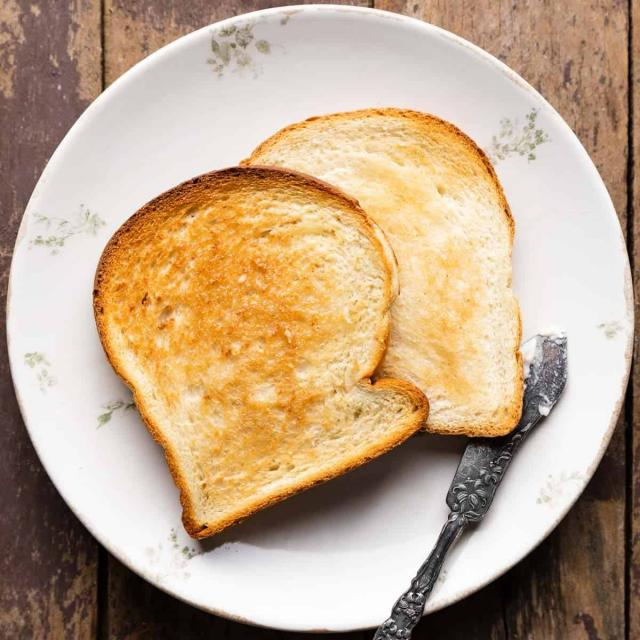Bread: (94, 166, 429, 538), (243, 109, 522, 436)
